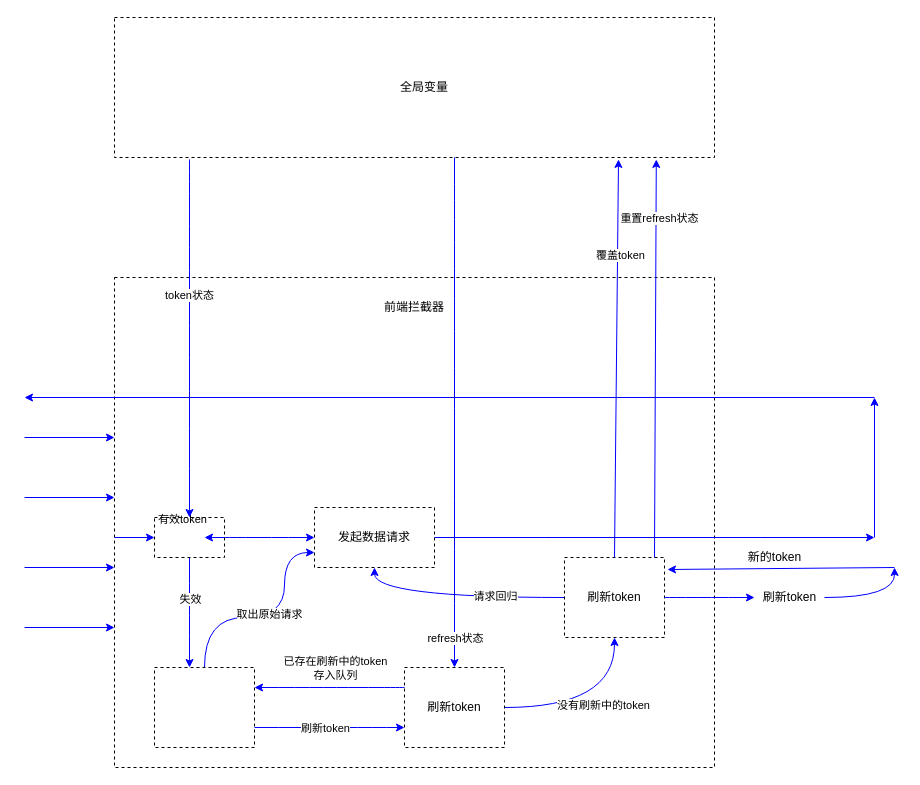
This 920x785 diagram has some shape labels left out. Here are the shapes that lost their labels. From the top down, the box of each, then its label:
(154, 516, 224, 558): token校验
(154, 666, 254, 748): 请求缓存队列
